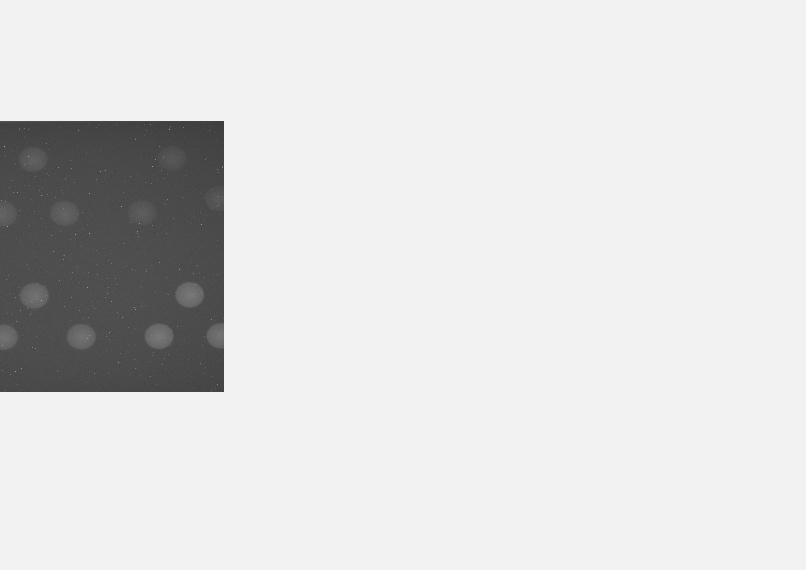cluster: (127, 145, 224, 229), (1, 147, 80, 233), (1, 283, 98, 352), (143, 282, 224, 350)
